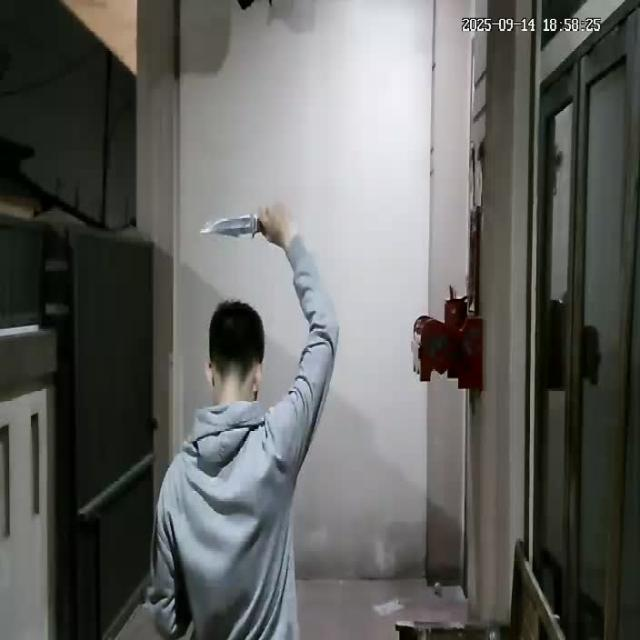senjata_tajam: (197, 211, 260, 242)
